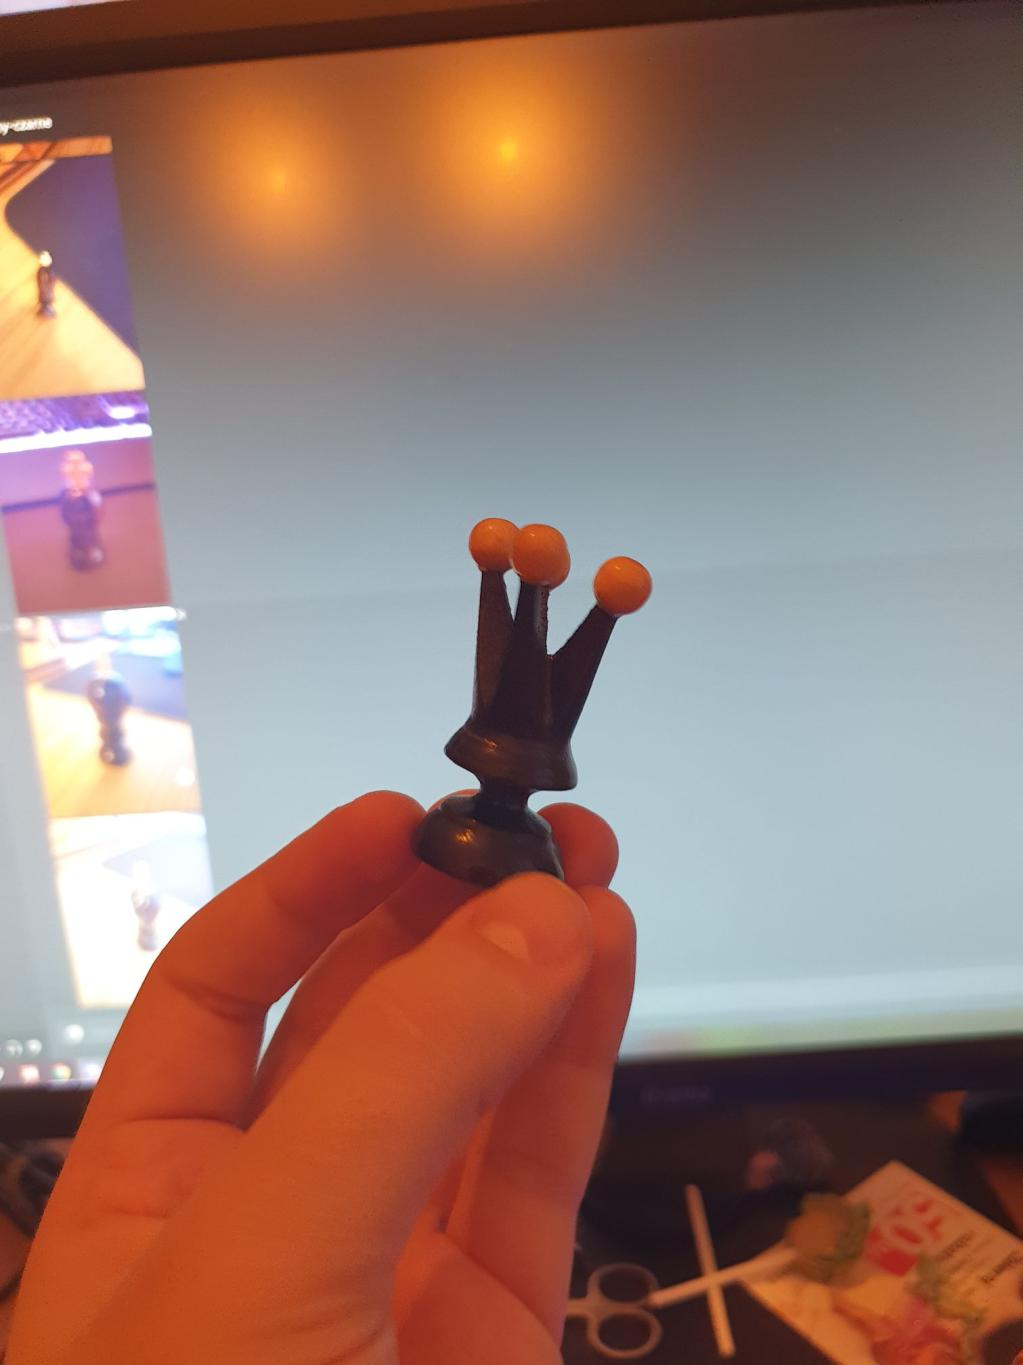bqueen: (410, 518, 652, 892)
